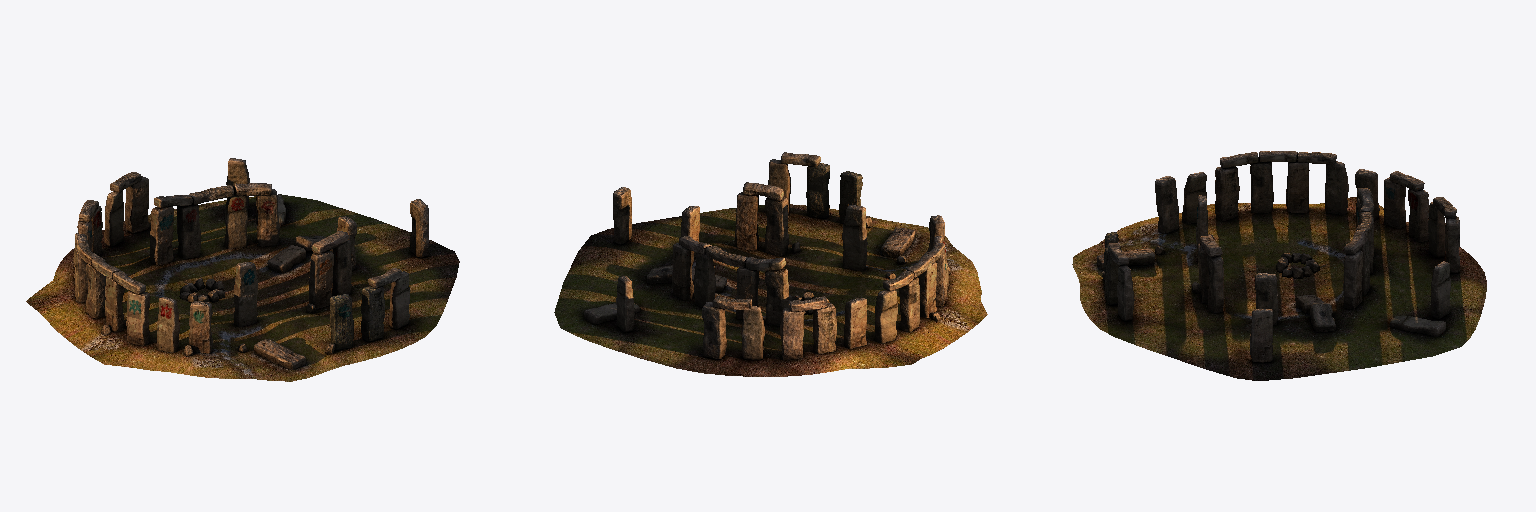
The picture shows the model from 3 angles: view 1: azimuth 30°, elevation 25°; view 2: azimuth 150°, elevation 25°; view 3: azimuth 270°, elevation 25°; orthographic projection.
Parts seen in each view (by area): view 1: floor, front_rocks, middle_rocks, back_rocks, rockLP020, far_back_stones, rockLP058; view 2: floor, back_rocks, front_rocks, middle_rocks, far_back_stones, rockLP020; view 3: floor, back_rocks, front_rocks, far_back_stones, middle_rocks, rockLP058, rockLP020.
Part boxes in pixels (x1,y1,x2,y2): floor: (26,194,459,381); front_rocks: (113,231,409,369); middle_rocks: (150,183,325,272); back_rocks: (73,172,148,331); rockLP020: (330,286,384,350); far_back_stones: (226,158,428,269); rockLP058: (179,278,224,302); floor: (554,204,987,376); back_rocks: (702,255,936,359); front_rocks: (735,152,948,306); middle_rocks: (647,236,789,325); far_back_stones: (584,187,699,332); rockLP020: (806,163,862,223); floor: (1072,197,1486,380); back_rocks: (1250,151,1459,272); front_rocks: (1097,152,1258,320); far_back_stones: (1250,261,1450,362); middle_rocks: (1295,188,1373,331); rockLP058: (1276,253,1319,278); rockLP020: (1104,232,1119,304).
Bounding box in the file's own units: 1470 × 304 × 1405.
8 materials, 8 textured.